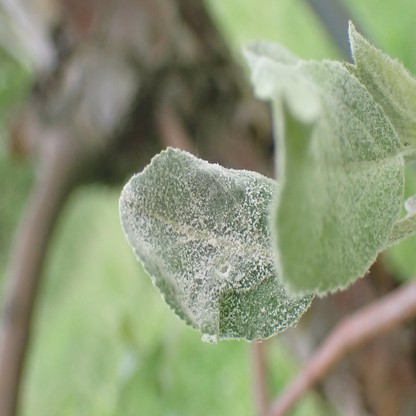powder: (118, 147, 377, 343), (244, 20, 416, 295), (349, 22, 416, 143)
